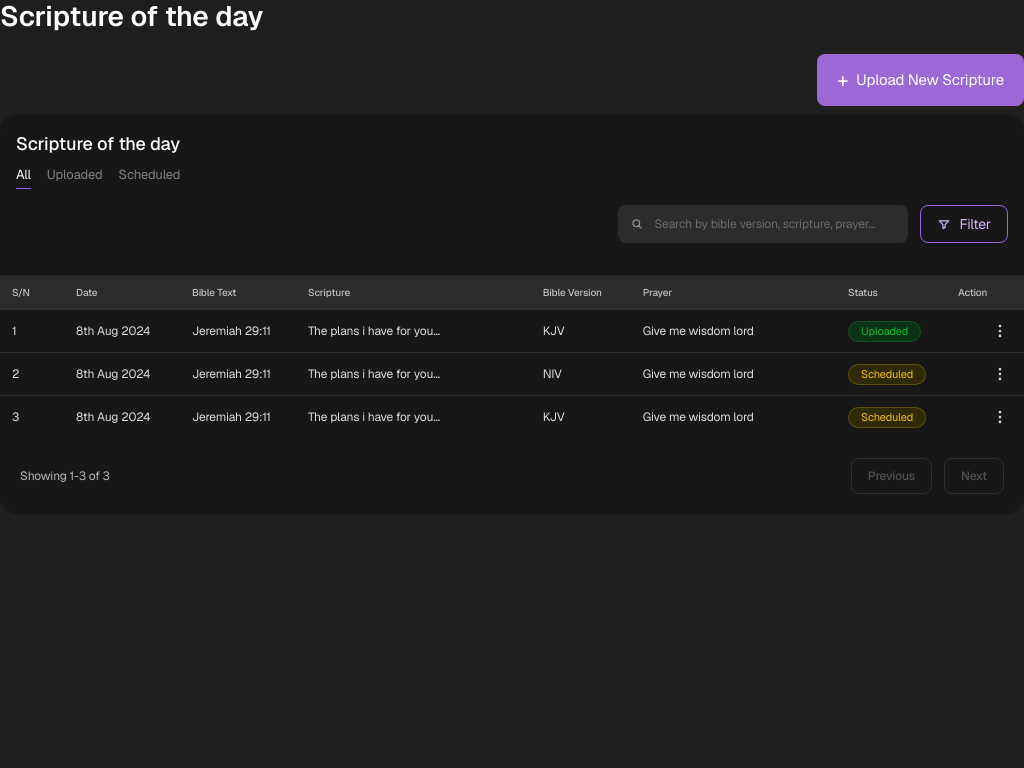
ScriptureOfTheDayPage › opens and closes the scripture filter without fetching
The width and height of the screenshot is (1024, 768).
What coordinates should you click on to do the following:
click the button "Filter"
I would click on:
 (964, 224)
Its box is x1=920 y1=205 x2=1008 y2=243.
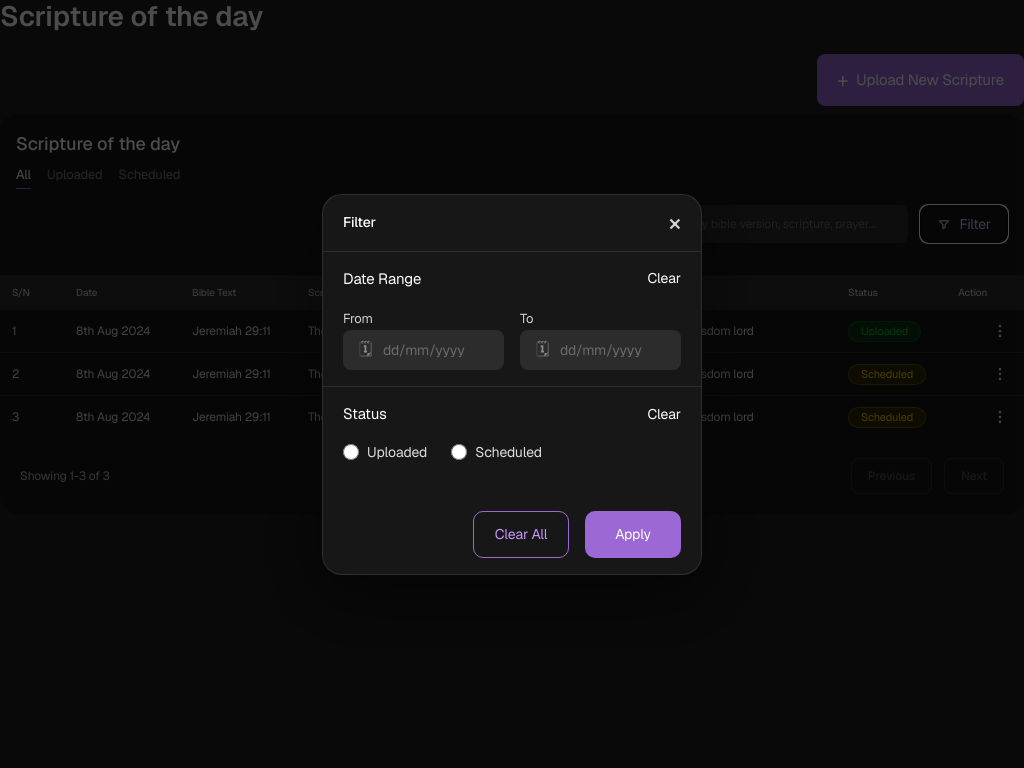
Expected: the text "Date Range" is shown, x1=343 y1=268 x2=421 y2=290
What coordinates should you click on to do the following:
click the button named "Dismiss scripture filter"
I would click on:
 (675, 222)
Its box is x1=669 y1=210 x2=681 y2=234.
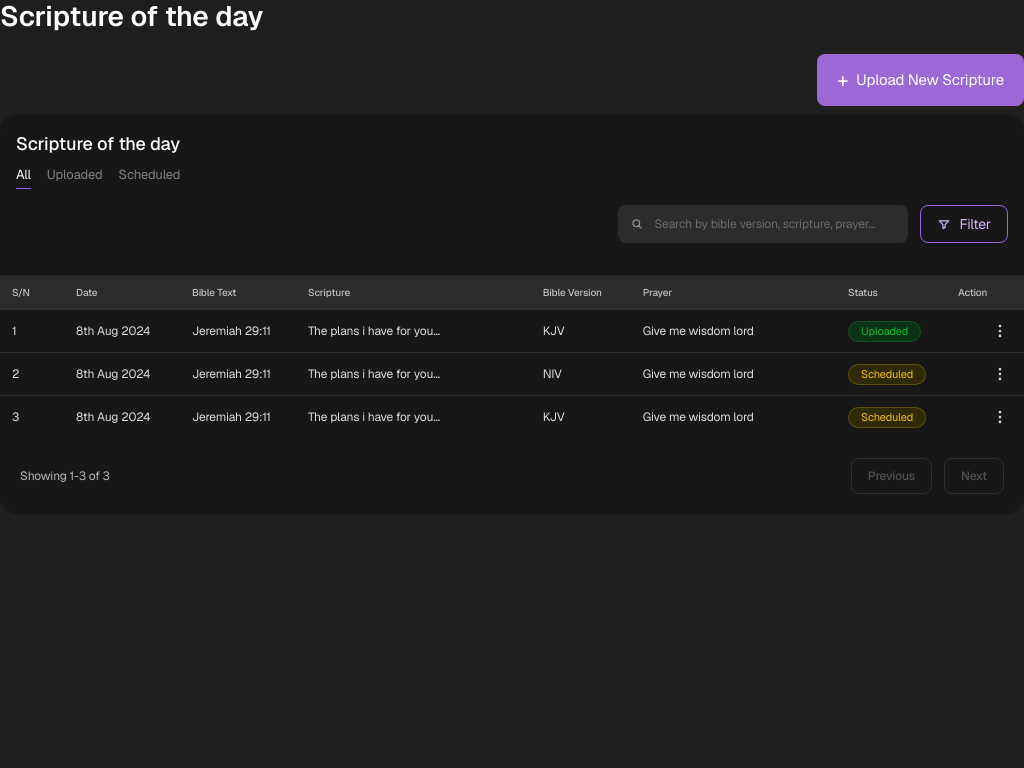
Expected: the text "Date Range" is gone
